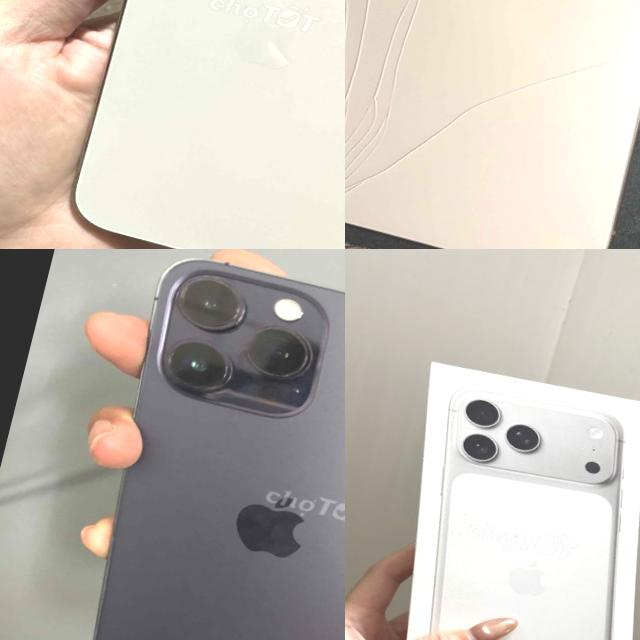physical_damage: (386, 38, 542, 186), (345, 0, 443, 226), (541, 22, 640, 92)
